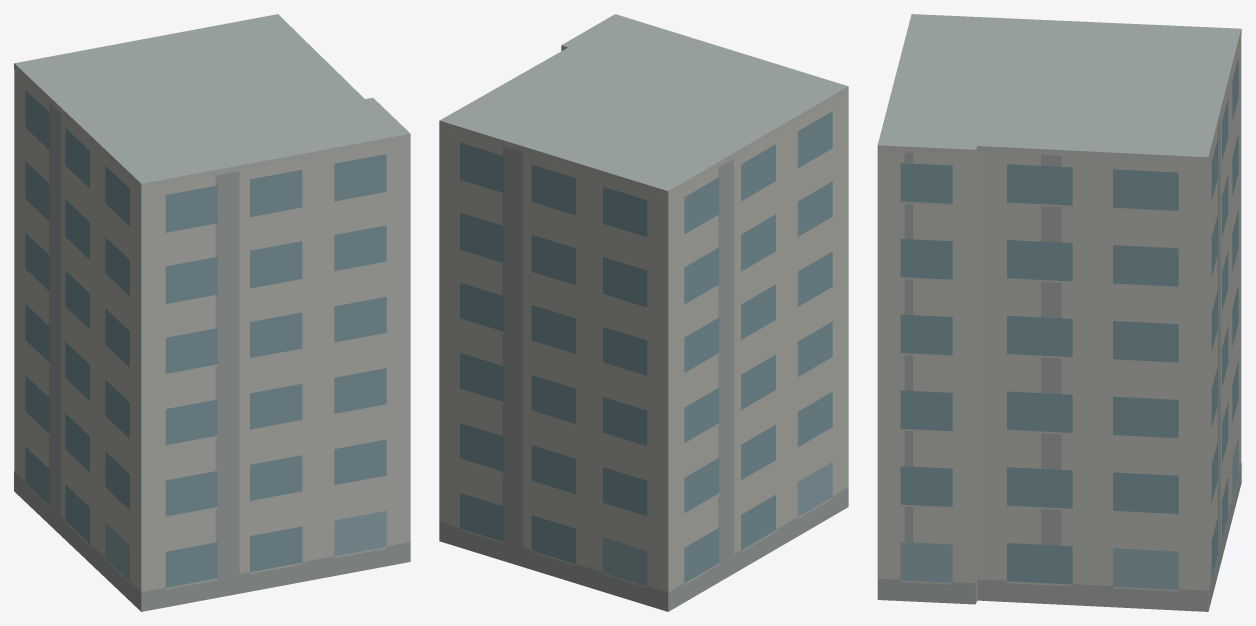
File: survey-upis-32788715.glb
The picture shows the model from 3 angles, left to right: view 1: azimuth 30°, elevation 25°; view 2: azimuth 150°, elevation 25°; view 3: azimuth 270°, elevation 25°; orthographic projection. The views are drawn at different scales.
Visible parts, largest first — view 1: survey-upis-32788715.tmp; view 2: survey-upis-32788715.tmp; view 3: survey-upis-32788715.tmp.
Part boxes in pixels (x1,y1,x2,y2): survey-upis-32788715.tmp: (14,14,410,611); survey-upis-32788715.tmp: (439,14,848,611); survey-upis-32788715.tmp: (877,14,1241,611).
Size of the model in its own units: 12.45 by 18.4 by 13.36.
